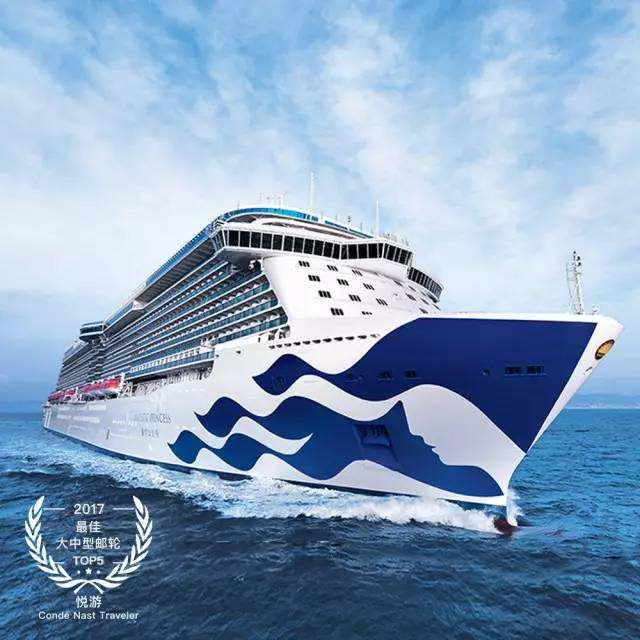youlun: (39, 177, 626, 515)
